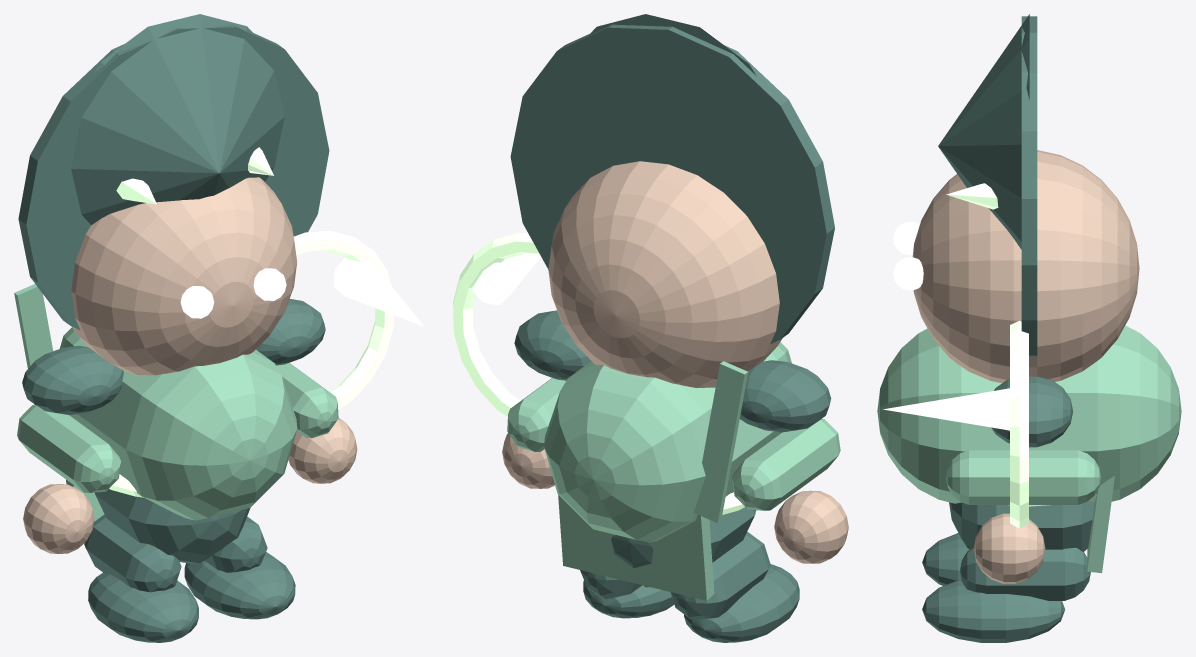
File: guardian-wind-sd-toon.glb
3 views of the same model, side by side, from view 1: azimuth 30°, elevation 25°; view 2: azimuth 150°, elevation 25°; view 3: azimuth 270°, elevation 25° (orthographic). The views are drawn at different scales.
Visible parts, largest first — view 1: head, gatCrown, body, gatBrim, pelvis, armL, footL, shoulderL, footR, legL, weapon, handL (+9 smaller); view 2: gatBrim, head, body, cloth, armL, shoulderL, weapon, ribbon, footL, handL, legL, shoulderR (+7 smaller); view 3: head, body, gatCrown, armR, footR, gatBrim, legR, pelvis, weapon, handR, shoulderR, signature (+5 smaller).
Part boxes in pixels (left/top/right/bottom): head: left=71, top=177, right=297, bottom=375; gatCrown: left=71, top=14, right=284, bottom=224; body: left=59, top=327, right=297, bottom=520; gatBrim: left=18, top=24, right=329, bottom=330; pelvis: left=95, top=489, right=250, bottom=563; armL: left=17, top=405, right=121, bottom=492; footL: left=88, top=572, right=198, bottom=642; shoulderL: left=22, top=345, right=123, bottom=414; footR: left=184, top=552, right=295, bottom=619; legL: left=84, top=514, right=181, bottom=592; weapon: left=294, top=231, right=393, bottom=409; handL: left=23, top=484, right=94, bottom=553; gatBrim: left=510, top=24, right=834, bottom=343; head: left=548, top=161, right=782, bottom=387; body: left=544, top=342, right=791, bottom=542; cloth: left=558, top=494, right=714, bottom=600; armL: left=732, top=419, right=840, bottom=510; shoulderL: left=740, top=360, right=831, bottom=432; weapon: left=453, top=232, right=539, bottom=416; ribbon: left=693, top=361, right=748, bottom=523; footL: left=684, top=564, right=799, bottom=642; handL: left=774, top=490, right=848, bottom=563; legL: left=670, top=532, right=770, bottom=620; shoulderR: left=514, top=310, right=591, bottom=380; head: left=912, top=150, right=1139, bottom=383; body: left=877, top=325, right=1181, bottom=503; gatCrown: left=938, top=14, right=1029, bottom=249; armR: left=946, top=450, right=1100, bottom=504; footR: left=922, top=579, right=1065, bottom=642; gatBrim: left=1021, top=16, right=1037, bottom=357; legR: left=960, top=547, right=1090, bottom=600; pelvis: left=949, top=501, right=1094, bottom=551; weapon: left=1010, top=320, right=1028, bottom=528; handR: left=974, top=513, right=1045, bottom=583; shoulderR: left=991, top=376, right=1073, bottom=447; signature: left=883, top=388, right=1009, bottom=430.
Bounding box in the file's own units: 2.15 × 3.25 × 1.53.
